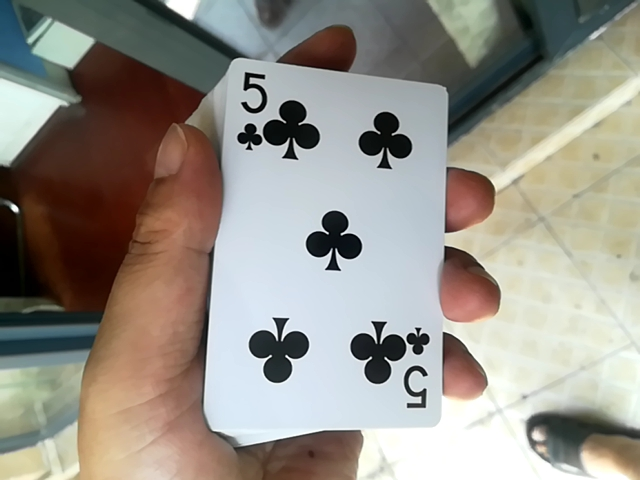mh 5: (204, 45, 450, 455)
